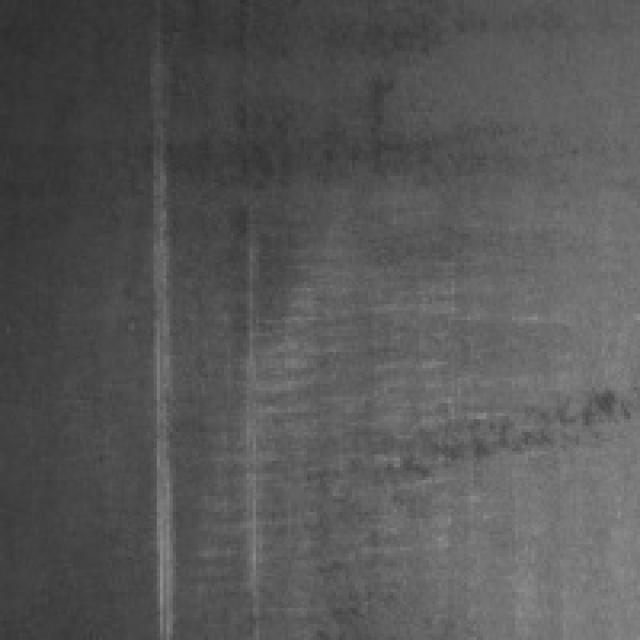scratches: (154, 58, 188, 624)
